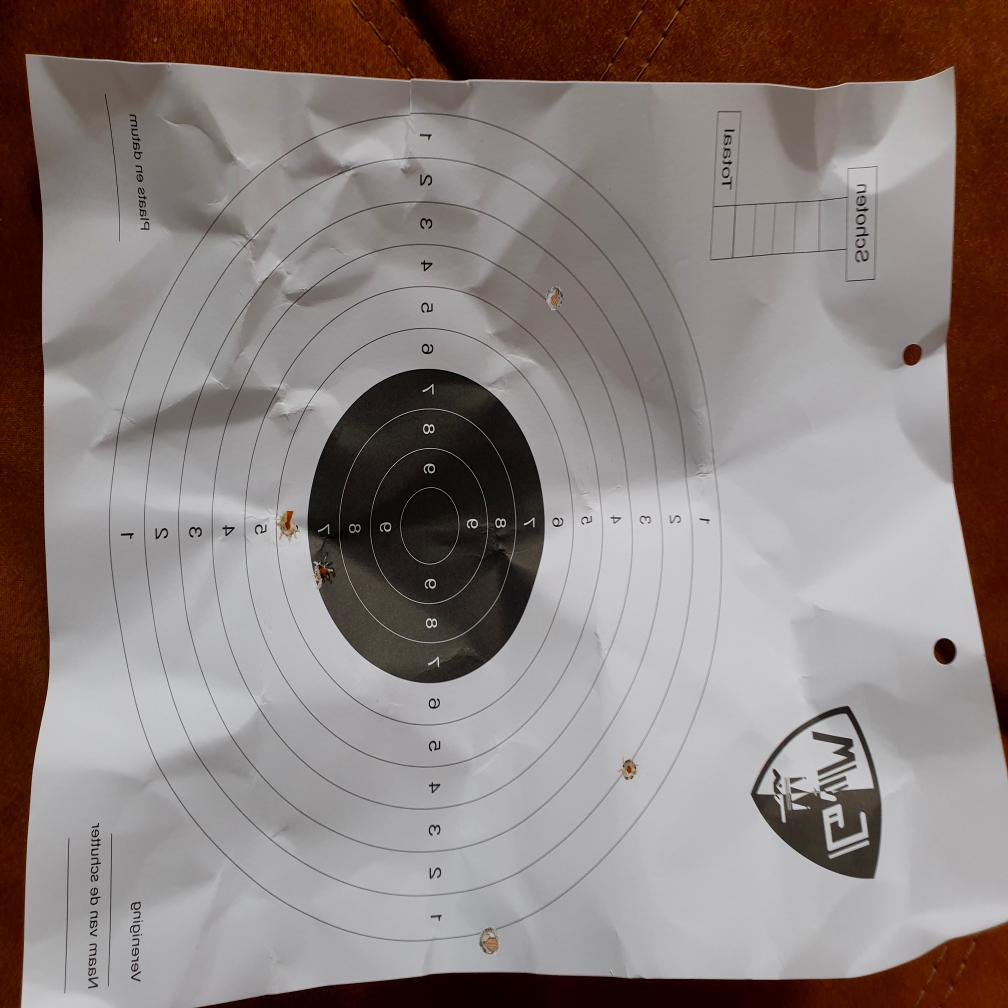1: (479, 925, 500, 956)
2: (618, 757, 637, 781)
4: (546, 286, 564, 311)
6: (277, 511, 300, 542)
7: (312, 553, 335, 588)
Target: (110, 110, 722, 944)
black_contour: (307, 369, 546, 683)
